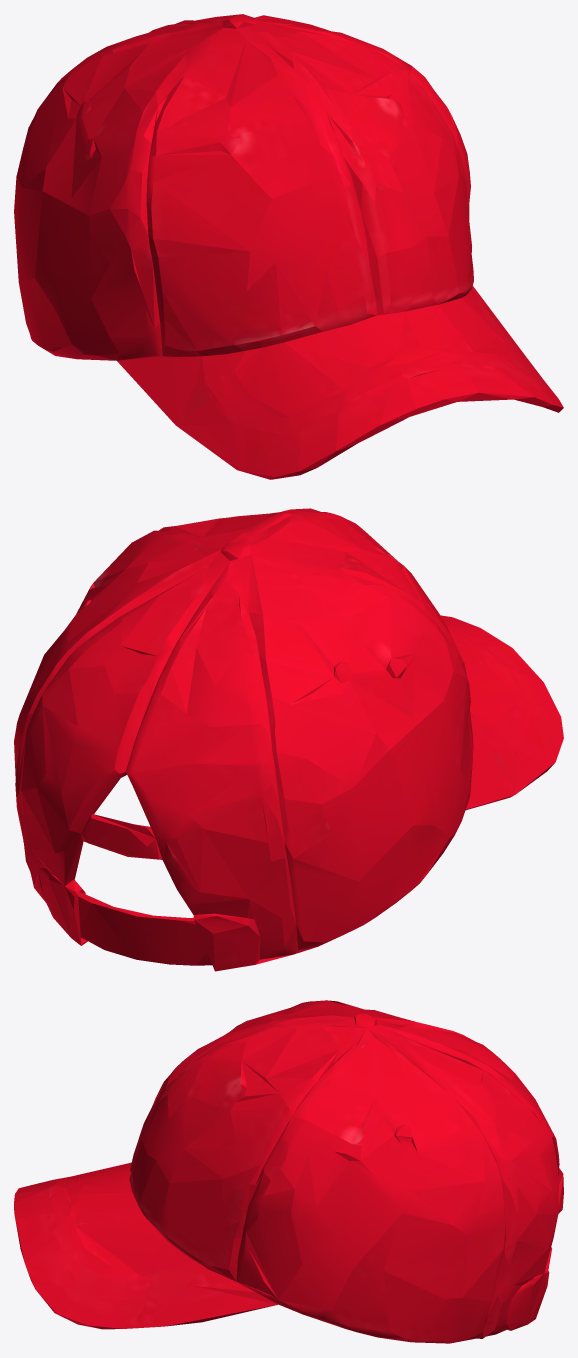
The model's file is cap.glb.
3 renders of one model, top to bottom at view 1: azimuth 30°, elevation 25°; view 2: azimuth 150°, elevation 25°; view 3: azimuth 270°, elevation 25°, orthographic. The views are drawn at different scales.
Size of the model in its own units: 1.26 by 1.07 by 1.9.
Materials: 1 (1 with a texture image).
